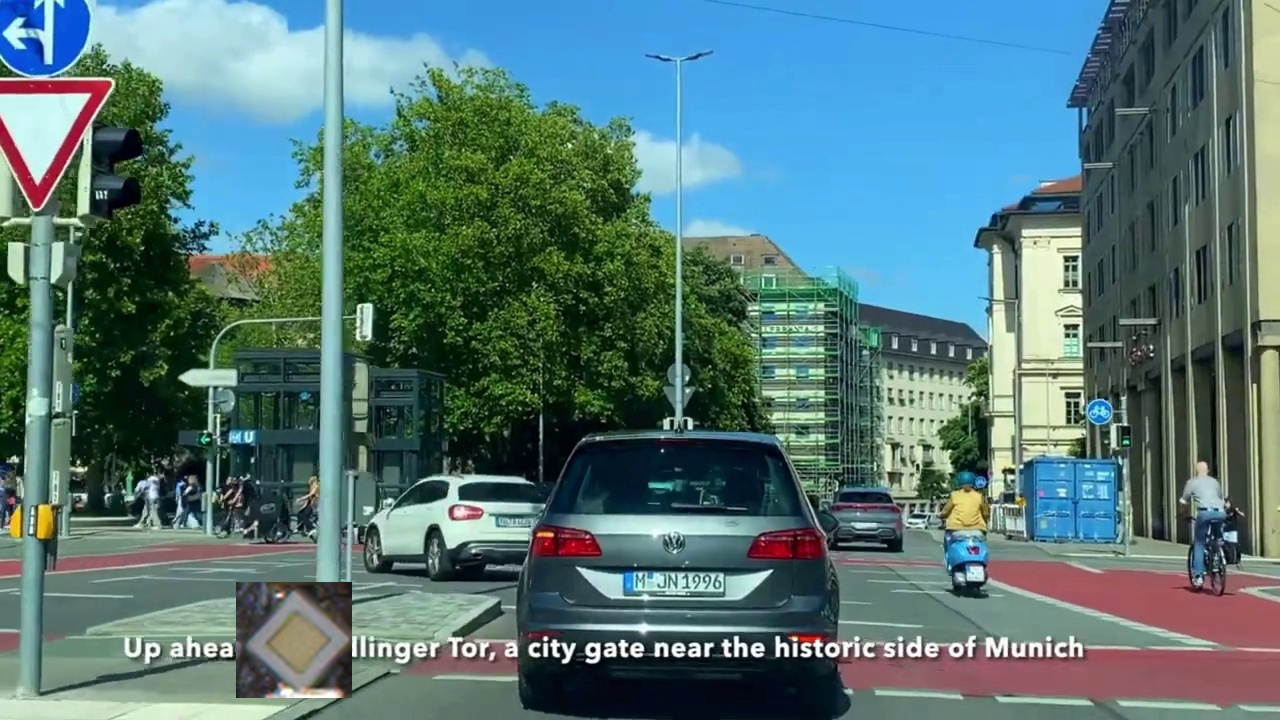Priority road: (236, 582, 352, 698)
